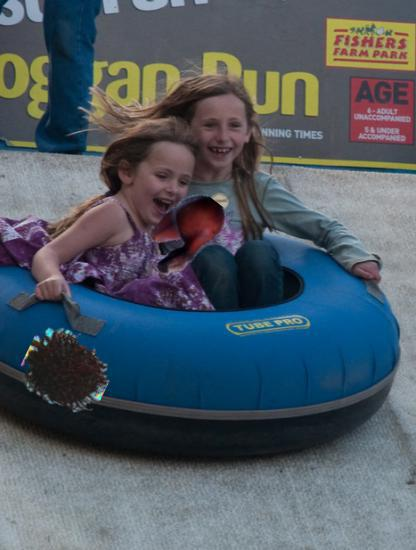Banana: (137, 188, 230, 281)
Rambutan: (24, 326, 111, 413)
